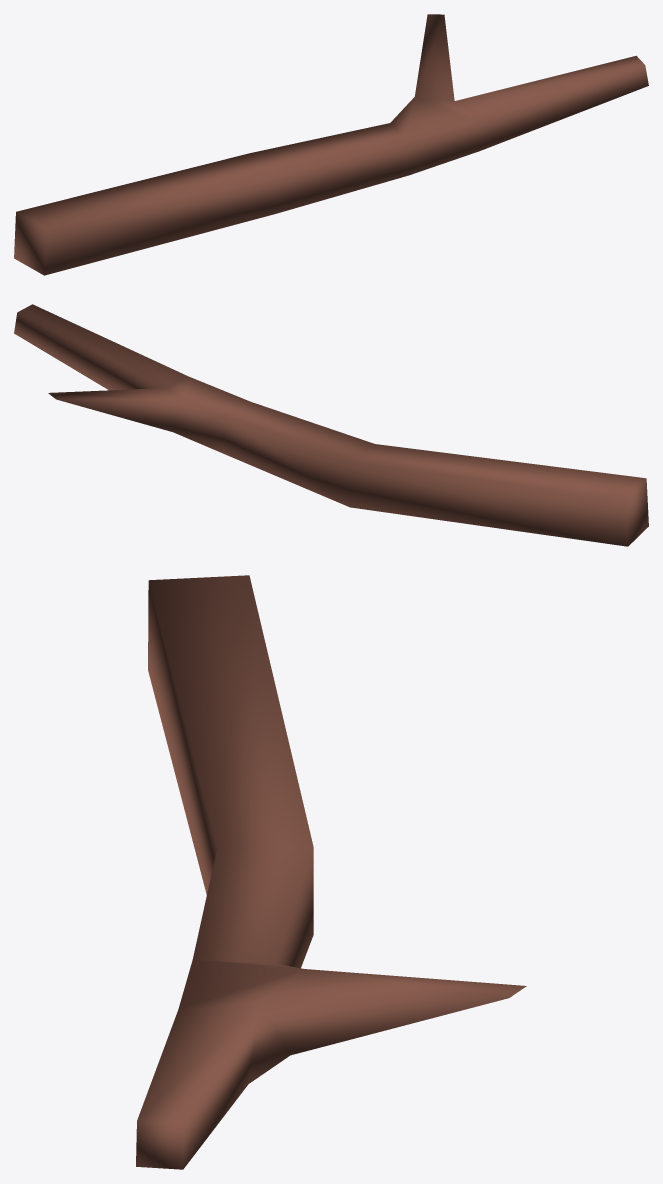
Rendered from Stick_DarkBrown_2.fbx.
3 renders of one model, top to bottom at view 1: azimuth 30°, elevation 25°; view 2: azimuth 150°, elevation 25°; view 3: azimuth 270°, elevation 25°, orthographic. The views are drawn at different scales.
Parts seen in each view (by area): view 1: Stick_DarkBrown_2; view 2: Stick_DarkBrown_2; view 3: Stick_DarkBrown_2.
Boxes of the visible parts, box(x1,y1,x2,y2) form: Stick_DarkBrown_2: box(14, 14, 648, 275); Stick_DarkBrown_2: box(14, 304, 648, 546); Stick_DarkBrown_2: box(136, 575, 526, 1169).
Size of the model in its own units: 181 by 24.72 by 50.3.
